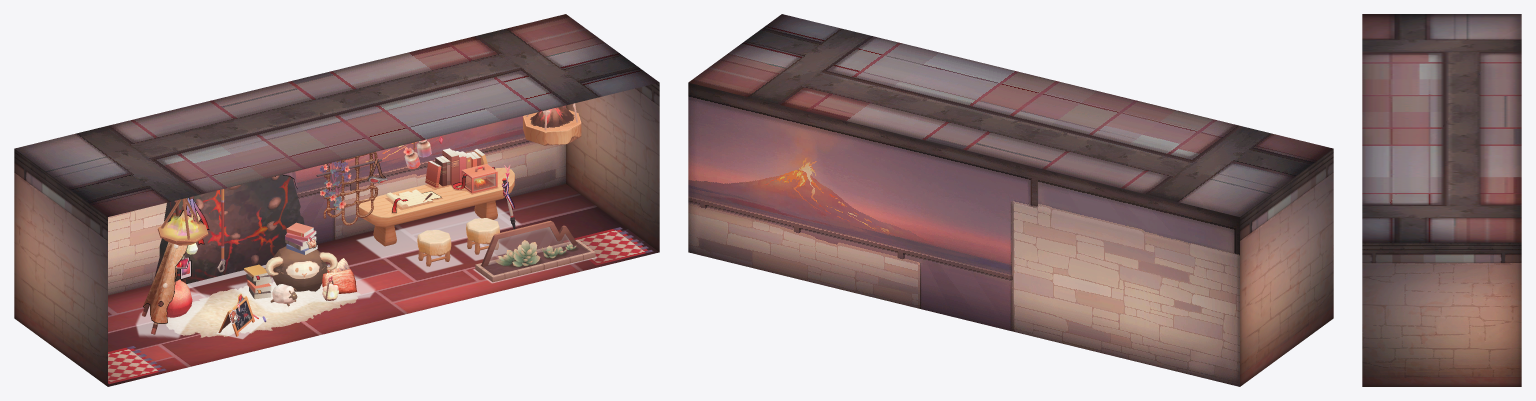
File: volcaRoom.glb
The picture shows the model from 3 angles, left to right: view 1: azimuth 30°, elevation 25°; view 2: azimuth 150°, elevation 25°; view 3: azimuth 270°, elevation 25°; orthographic projection. The views are drawn at different scales.
Visible parts, largest first — view 1: ROOM_room, ROOM_floor, furni_volcaRoom_climbwall_01, furni_volcaRoom_tableset_01, furni_volcaRoom_dollset_01, furni_volcaRoom_sheeprug_01, furni_volcaRoom_flower_01, furni_volcaRoom_tent_02, shadow_01.005, furni_volcaRoom_ropenet_02, furni_volcaRoom_volcanomodel_01, shadow_01.004 (+12 smaller); view 2: ROOM_room, ROOM_LDoor; view 3: ROOM_room, ROOM_RDoor.
Boxes of the visible parts, x1,y1,x2,y2 form: ROOM_room: (14,14,659,386); ROOM_floor: (108,184,659,386); furni_volcaRoom_climbwall_01: (154,174,304,283); furni_volcaRoom_tableset_01: (359,148,515,246); furni_volcaRoom_dollset_01: (244,222,356,306); furni_volcaRoom_sheeprug_01: (166,282,360,337); furni_volcaRoom_flower_01: (475,220,595,282); furni_volcaRoom_tent_02: (143,197,209,323); shadow_01.005: (357,206,520,257); furni_volcaRoom_ropenet_02: (319,152,385,225); furni_volcaRoom_volcanomodel_01: (523,103,581,145); shadow_01.004: (229,264,375,312); ROOM_room: (688,14,1333,386); ROOM_LDoor: (1300,251,1319,341); ROOM_room: (1362,14,1521,386); ROOM_RDoor: (1385,321,1418,386).
Size of the model in its own units: 7.48 by 2.2 by 2.2.
7 materials, 7 textured.
